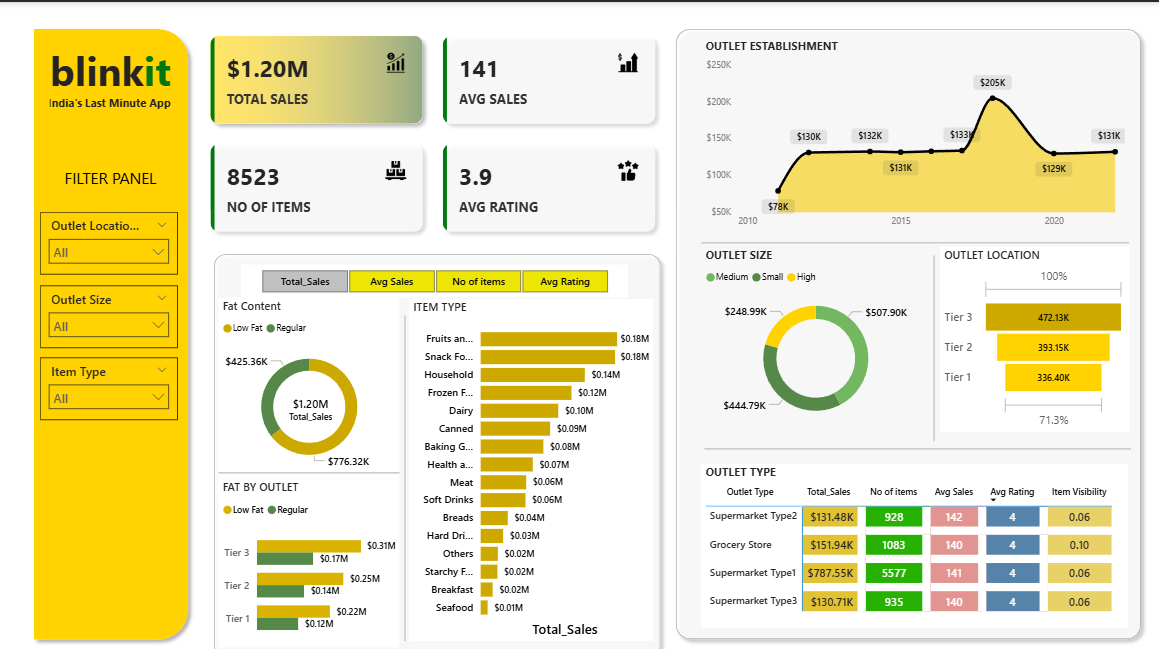

This screenshot's page, from the dashboard's own definition file:
{"tool":"powerbi","page":{"name":"Page 1","canvas":[1400,800],"ordinal":0},"visuals":[{"type":"shape","box":[34,24,204,754],"z":0},{"type":"textbox","box":[52,44,166,82],"z":1000},{"type":"textbox","box":[40,106,190,40],"z":2000},{"type":"cardVisual","fields":{"Data":["Measure.Total_Sales","Measure.Avg Sales","Measure.No of items","Measure.Avg Rating"]},"box":[238,24,570,270],"z":3000},{"type":"shape","box":[252,294,556,506],"z":4000},{"type":"donutChart","title":"Fat Content","fields":{"Y":["Measure.Total_Sales"],"Category":["Table1.Item Fat Content"]},"box":[266,356,218,218],"z":5000},{"type":"slicer","fields":{"Values":["Metrics.Metrics"]},"box":[292,316,466,40],"z":6000},{"type":"cardVisual","fields":{"Data":["Measure.Total_Sales"]},"box":[312,458,128,58],"z":7000},{"type":"clusteredBarChart","title":"FAT BY OUTLET","fields":{"Y":["Measure.Total_Sales"],"Category":["Table1.Outlet Location Type"],"Series":["Table1.Item Fat Content"]},"box":[266,574,218,204],"z":8000},{"type":"barChart","title":"ITEM TYPE","fields":{"Y":["Measure.Total_Sales"],"Category":["Table1.Item Type"]},"box":[496,358,294,412],"z":9000},{"type":"shape","box":[266,560,218,14],"z":10000},{"type":"shape","box":[484,378,12,392],"z":11000},{"type":"shape","box":[808.5,24.4,578.2,753.2],"z":12000},{"type":"lineChart","title":"OUTLET ESTABLISHMENT ","fields":{"Y":["Measure.Total_Sales"],"Category":["Table1.Outlet Establishment Year"]},"box":[847.6,43.4,515.1,236.8],"z":13000},{"type":"shape","box":[847.6,285.5,515.1,9],"z":14000},{"type":"donutChart","title":"OUTLET SIZE","fields":{"Y":["Measure.Total_Sales"],"Category":["Table1.Outlet Size"]},"box":[847.6,294.6,274.7,224.1],"z":15000},{"type":"shape","box":[1123.1,305.7,11.1,223.7],"z":16000},{"type":"funnel","title":"OUTLET LOCATION","fields":{"Y":["Sum(Table1.Sales)"],"Category":["Table1.Outlet Location Type"]},"box":[1135,294.6,227.7,224.1],"z":17000},{"type":"shape","box":[850.6,529.4,513.9,17.7],"z":18000},{"type":"pivotTable","title":"OUTLET TYPE","fields":{"Rows":["Table1.Outlet Type"],"Values":["Measure.Total_Sales","Measure.No of items","Measure.Avg Sales","Measure.Avg Rating","Avg(Table1.Item Visibility)"]},"box":[848.4,556,513.9,197.2],"z":19000},{"type":"slicer","fields":{"Values":["Table1.Outlet Location Type"]},"box":[50.9,252.5,166.1,75.3],"z":19001},{"type":"slicer","fields":{"Values":["Table1.Outlet Size"]},"box":[50.9,341.1,166.1,75.3],"z":19002},{"type":"slicer","fields":{"Values":["Table1.Item Type"]},"box":[50.9,427.5,166.1,75.3],"z":19003},{"type":"textbox","box":[53.2,192.7,166.1,59.8],"z":19004}]}

Visuals, with their boxes in screenshot pixels (x1, y1, x2, y2), scaled from the page's 1400x800 canvas onto the 1159x649 screenshot:
shape: left=28, top=19, right=197, bottom=631
textbox: left=43, top=36, right=180, bottom=102
textbox: left=33, top=86, right=190, bottom=118
cardVisual - Measure.Total_Sales x Measure.Avg Sales: left=197, top=19, right=669, bottom=239
shape: left=209, top=239, right=669, bottom=648
"Fat Content" donutChart: left=220, top=289, right=401, bottom=466
slicer - Metrics.Metrics: left=242, top=256, right=628, bottom=289
cardVisual - Measure.Total_Sales: left=258, top=372, right=364, bottom=419
"FAT BY OUTLET" clusteredBarChart: left=220, top=466, right=401, bottom=631
"ITEM TYPE" barChart: left=411, top=290, right=654, bottom=625
shape: left=220, top=454, right=401, bottom=466
shape: left=401, top=307, right=411, bottom=625
shape: left=669, top=20, right=1148, bottom=631
"OUTLET ESTABLISHMENT " lineChart: left=702, top=35, right=1128, bottom=227
shape: left=702, top=232, right=1128, bottom=239
"OUTLET SIZE" donutChart: left=702, top=239, right=929, bottom=421
shape: left=930, top=248, right=939, bottom=429
"OUTLET LOCATION" funnel: left=940, top=239, right=1128, bottom=421
shape: left=704, top=429, right=1130, bottom=444
"OUTLET TYPE" pivotTable: left=702, top=451, right=1128, bottom=611
slicer - Table1.Outlet Location Type: left=42, top=205, right=180, bottom=266
slicer - Table1.Outlet Size: left=42, top=277, right=180, bottom=338
slicer - Table1.Item Type: left=42, top=347, right=180, bottom=408
textbox: left=44, top=156, right=182, bottom=205
